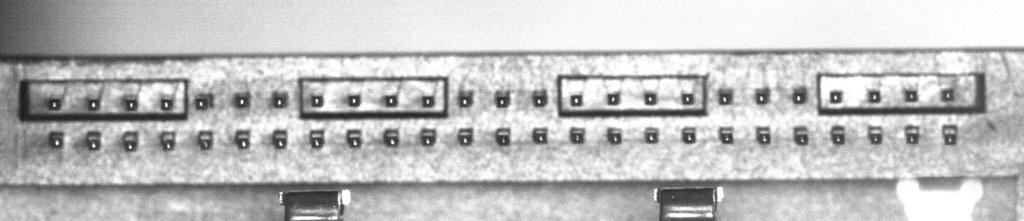pin_ok: (122, 130, 139, 151), (195, 92, 214, 110), (234, 129, 251, 149), (159, 131, 176, 151), (85, 130, 102, 150), (942, 124, 958, 145), (383, 128, 400, 147), (420, 127, 437, 146), (48, 130, 65, 149), (197, 129, 213, 149), (272, 129, 288, 149), (346, 128, 362, 148), (457, 127, 474, 145), (309, 129, 325, 148), (495, 89, 511, 108), (532, 88, 548, 107), (495, 127, 511, 146), (793, 126, 809, 145), (830, 125, 846, 144), (606, 127, 623, 144), (754, 87, 771, 104), (458, 89, 474, 107), (532, 126, 548, 144), (272, 90, 288, 108), (233, 92, 251, 108), (791, 86, 807, 104), (905, 125, 920, 144), (681, 127, 697, 144), (756, 126, 771, 144), (868, 126, 883, 144), (718, 88, 734, 104), (719, 127, 734, 143), (570, 127, 585, 143), (644, 127, 659, 143), (940, 87, 955, 101), (867, 89, 881, 103), (160, 97, 174, 111), (643, 91, 657, 105), (904, 88, 918, 101), (681, 91, 694, 105), (310, 94, 324, 107), (829, 90, 843, 103), (422, 94, 435, 108), (47, 97, 61, 110), (347, 94, 360, 107), (385, 94, 398, 107), (125, 98, 138, 111), (608, 91, 620, 105), (86, 98, 100, 110), (570, 94, 583, 106)
